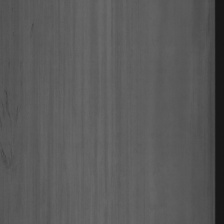water_spot: (1, 83, 23, 175)
